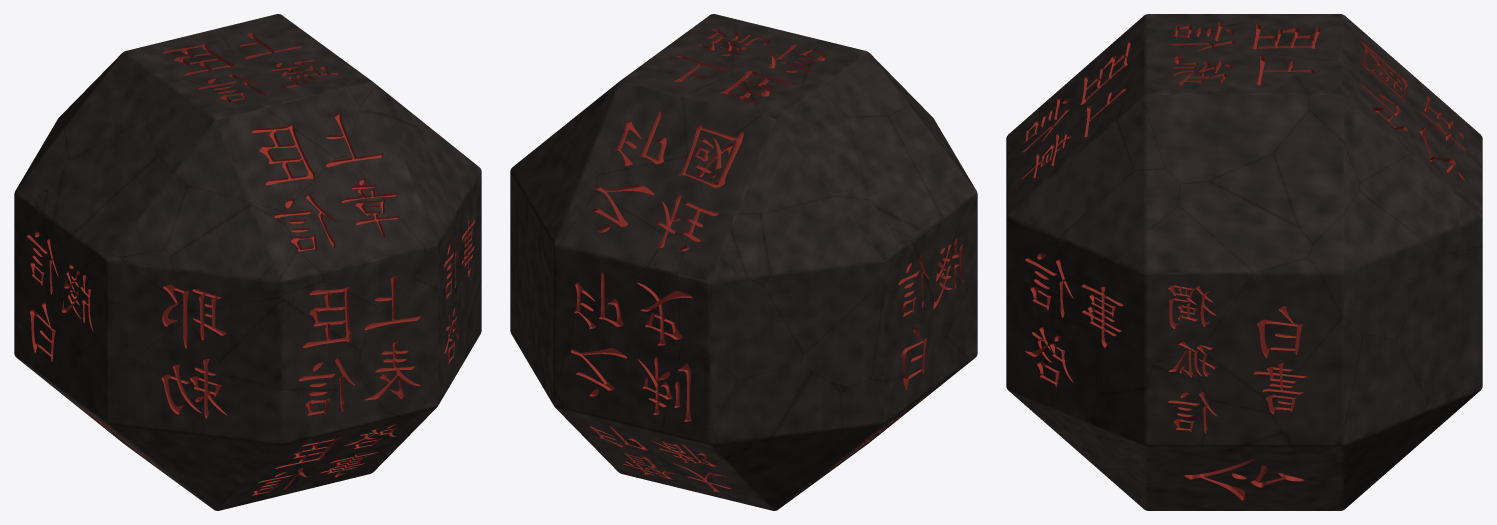
The model's file is 几何对照.glb.
3 renders of one model, left to right at view 1: azimuth 30°, elevation 25°; view 2: azimuth 150°, elevation 25°; view 3: azimuth 270°, elevation 25°, orthographic. The views are drawn at different scales.
Visible parts, largest first — view 1: DuguXin_Seal; view 2: DuguXin_Seal; view 3: DuguXin_Seal.
Boxes of the visible parts, left/top/right/bottom form: DuguXin_Seal: left=14, top=14, right=481, bottom=510; DuguXin_Seal: left=510, top=14, right=977, bottom=510; DuguXin_Seal: left=1006, top=14, right=1482, bottom=510.
Size of the model in its own units: 0.0435 by 0.0435 by 0.045.
27 materials, 26 textured.
